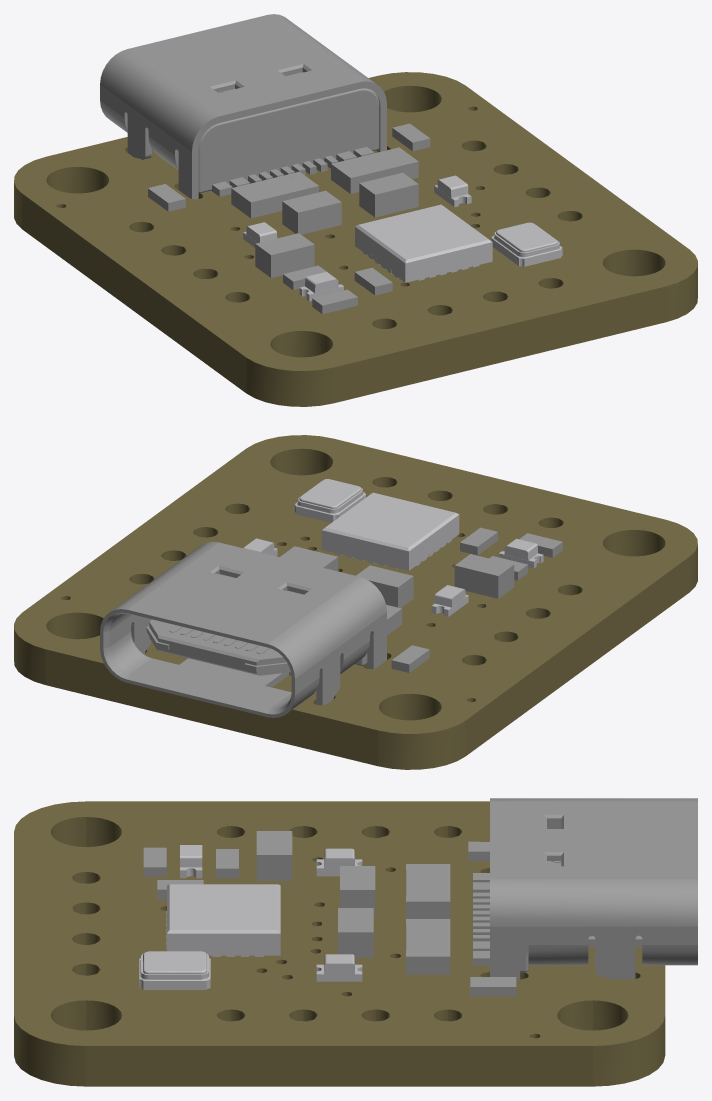
File: ada-5999.glb
3 views of the same model, one above another, from view 1: azimuth 30°, elevation 25°; view 2: azimuth 150°, elevation 25°; view 3: azimuth 270°, elevation 25° (orthographic). The views are drawn at different scales.
Parts seen in each view (by area): view 1: 0.16666666666666666_0.16666666666666666_0.08333333333333333_, 0.3333333333333333_0.3333333333333333_0.3333333333333333_0, 0.5833333333333334_0.5833333333333334_0.5833333333333334_0.8; view 2: 0.16666666666666666_0.16666666666666666_0.08333333333333333_, 0.3333333333333333_0.3333333333333333_0.3333333333333333_0, 0.5833333333333334_0.5833333333333334_0.5833333333333334_0.8; view 3: 0.16666666666666666_0.16666666666666666_0.08333333333333333_, 0.3333333333333333_0.3333333333333333_0.3333333333333333_0, 0.5833333333333334_0.5833333333333334_0.5833333333333334_0.8.
Boxes of the visible parts, left/top/right/bottom form: 0.16666666666666666_0.16666666666666666_0.08333333333333333_: left=14, top=72, right=697, bottom=406; 0.3333333333333333_0.3333333333333333_0.3333333333333333_0: left=100, top=14, right=430, bottom=314; 0.5833333333333334_0.5833333333333334_0.5833333333333334_0.8: left=243, top=175, right=562, bottom=301; 0.16666666666666666_0.16666666666666666_0.08333333333333333_: left=14, top=435, right=697, bottom=769; 0.3333333333333333_0.3333333333333333_0.3333333333333333_0: left=100, top=527, right=562, bottom=717; 0.5833333333333334_0.5833333333333334_0.5833333333333334_0.8: left=244, top=479, right=543, bottom=616; 0.16666666666666666_0.16666666666666666_0.08333333333333333_: left=14, top=801, right=665, bottom=1086; 0.3333333333333333_0.3333333333333333_0.3333333333333333_0: left=143, top=798, right=697, bottom=996; 0.5833333333333334_0.5833333333333334_0.5833333333333334_0.8: left=139, top=845, right=362, bottom=989.
Size of the model in its own units: 2.03 by 0.4797 by 2.4.
